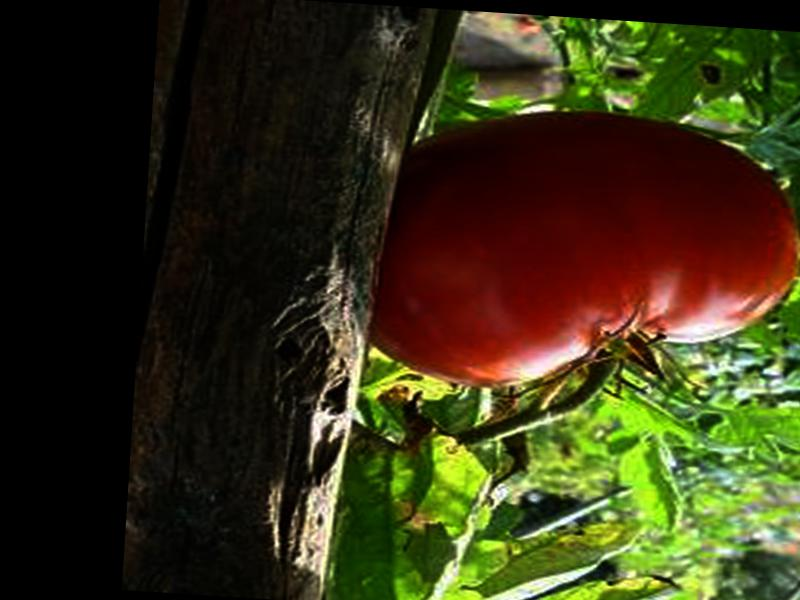Tomato: (360, 101, 800, 406)
